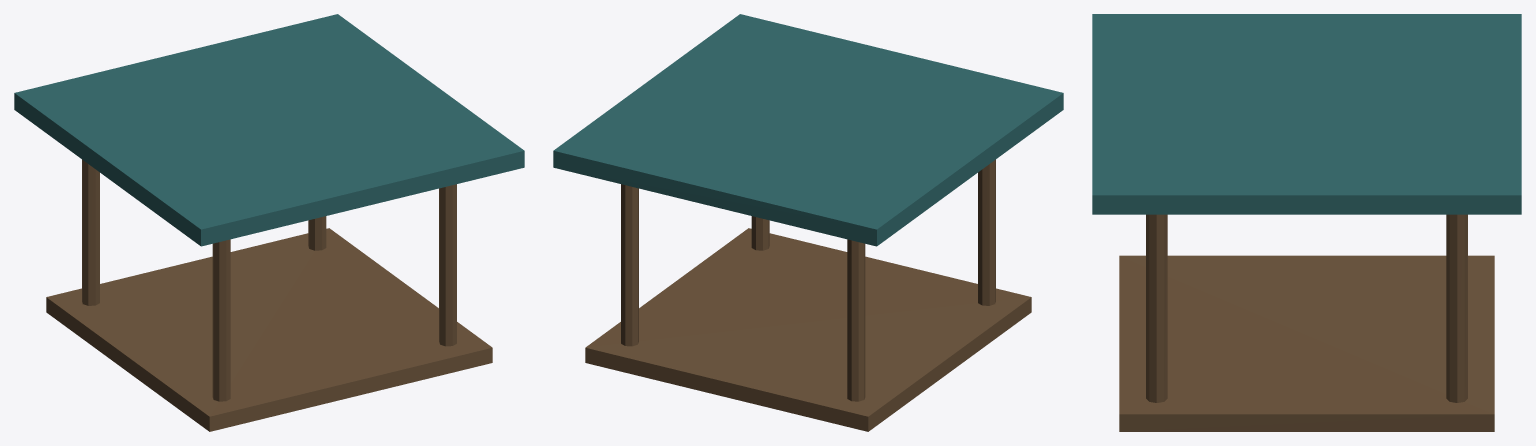
The model's file is Gazebo.glb.
The picture shows the model from 3 angles, left to right: view 1: azimuth 30°, elevation 25°; view 2: azimuth 150°, elevation 25°; view 3: azimuth 270°, elevation 25°; orthographic projection. The views are drawn at different scales.
Parts seen in each view (by area): view 1: gazebo-static-gazebo-teal, gazebo-static-gazebo-timber; view 2: gazebo-static-gazebo-teal, gazebo-static-gazebo-timber; view 3: gazebo-static-gazebo-teal, gazebo-static-gazebo-timber.
Boxes of the visible parts, x1=… form: gazebo-static-gazebo-teal: x1=14, y1=14, x2=524, y2=246; gazebo-static-gazebo-timber: x1=46, y1=159, x2=492, y2=431; gazebo-static-gazebo-teal: x1=553, y1=14, x2=1063, y2=246; gazebo-static-gazebo-timber: x1=585, y1=159, x2=1031, y2=431; gazebo-static-gazebo-teal: x1=1092, y1=14, x2=1521, y2=214; gazebo-static-gazebo-timber: x1=1119, y1=214, x2=1494, y2=431.
Size of the model in its own units: 4 by 2.55 by 4.
